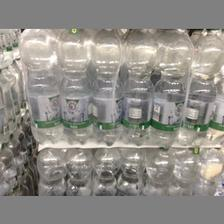Wasser: (150, 29, 194, 149), (177, 29, 223, 143), (18, 28, 62, 144), (55, 29, 91, 144), (92, 28, 124, 145), (122, 29, 154, 144)
